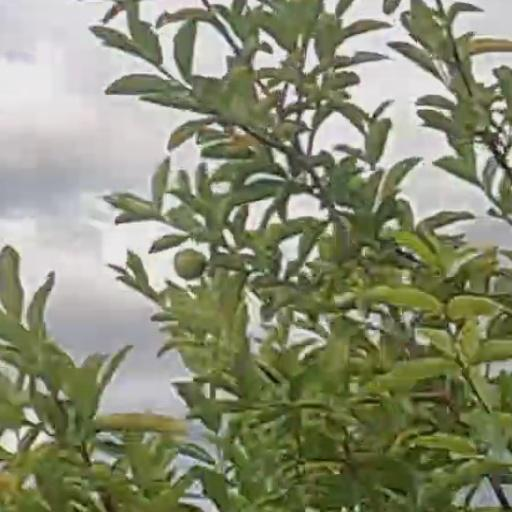acerola_verde: (175, 251, 206, 278)
